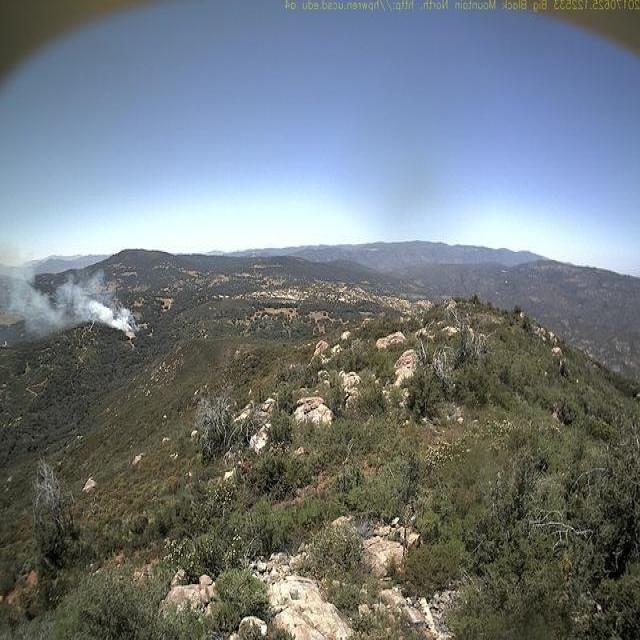Smoke: (3, 236, 140, 343)
